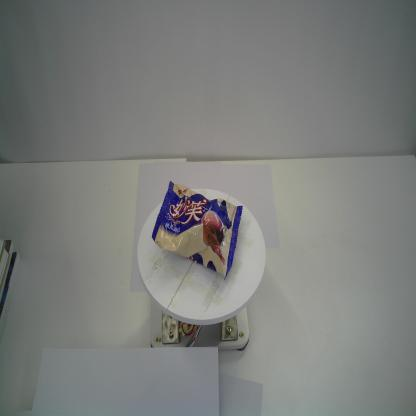Dessert: (150, 179, 244, 282)
